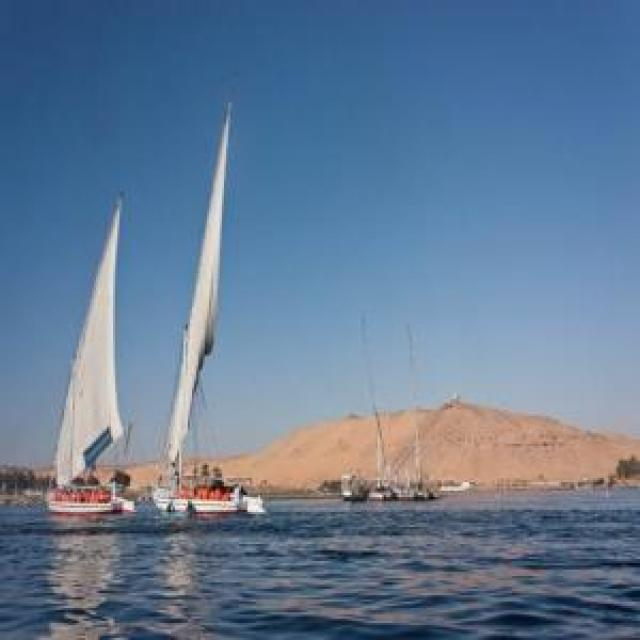sailboat: (154, 97, 270, 510), (44, 182, 139, 517), (337, 317, 400, 504), (384, 322, 439, 502)
